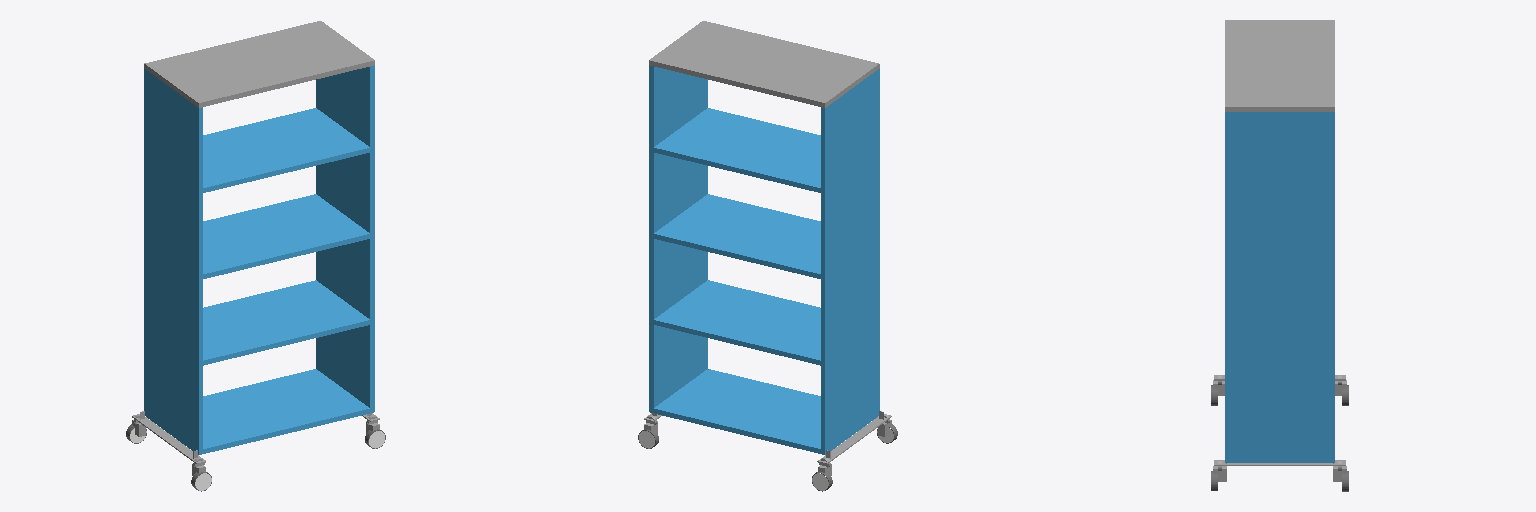
URDF robot description (bookcase):
<?xml version="1.0" ?>
<robot name="bookcase"  xmlns:xacro="http://www.ros.org/wiki/xacro">
    <link name="base_footprint">
      <inertial>
        <origin
            xyz="0 0 0"
            rpy="0 0 0" />
        <mass
            value="0.1" />
        <inertia
            ixx="1"
            ixy="0"
            ixz="0"
            iyy="1"
            iyz="0"
            izz="1" />            
      </inertial>
    </link>

    <link name="bookcase">
        <visual>
            <origin rpy="0 0 0" xyz="0.385 0.2 1.43"/>
            <geometry>
	 	        <box size="0.75 0.4 0.02"/>
            </geometry>
            <material name="grey">
                <color rgba="0.7 0.7 0.7 1"/>
            </material>
        </visual>

        <visual>
            <origin rpy="0 0 0" xyz="0.385 0.2 1.08"/>
            <geometry>
	 	        <box size="0.75 0.4 0.02"/>
            </geometry>
        </visual>

        <visual>
            <origin rpy="0 0 0" xyz="0.385 0.2 0.73"/>
            <geometry>
	 	        <box size="0.75 0.4 0.02"/>
            </geometry>
        </visual>

        <visual>
            <origin rpy="0 0 0" xyz="0.385 0.2 0.38"/>
            <geometry>
	 	        <box size="0.75 0.4 0.02"/>
            </geometry>
        </visual>

        <visual>
            <origin rpy="0 0 0" xyz="0.385 0.2 0.02"/>
            <geometry>
	 	        <box size="0.75 0.4 0.02"/>
            </geometry>
        </visual>

        <visual>
            <origin rpy="0 0 0" xyz="0.75 0.2 0.72"/>
            <geometry>
	 	        <box size="0.02 0.4 1.4"/>
            </geometry>
        </visual>
        
        <visual>
            <origin rpy="0 0 0" xyz="0.02 0.2 0.72"/>
            <geometry>
	 	        <box size="0.02 0.4 1.4"/>
            </geometry>
        </visual>


        <collision>
            <origin rpy="0 0 0" xyz="0.385 0.2 1.43"/>
            <geometry>
	 	        <box size="0.75 0.4 0.02"/>
            </geometry>
        </collision>

        <collision>
            <origin rpy="0 0 0" xyz="0.385 0.2 1.08"/>
            <geometry>
	 	        <box size="0.75 0.4 0.02"/>
            </geometry>
        </collision>

        <collision>
            <origin rpy="0 0 0" xyz="0.385 0.2 0.73"/>
            <geometry>
	 	        <box size="0.75 0.4 0.02"/>
            </geometry>
        </collision>

        <collision>
            <origin rpy="0 0 0" xyz="0.385 0.2 0.38"/>
            <geometry>
	 	        <box size="0.75 0.4 0.02"/>
            </geometry>
        </collision>

        <collision>
            <origin rpy="0 0 0" xyz="0.385 0.2 0.02"/>
            <geometry>
	 	        <box size="0.75 0.4 0.02"/>
            </geometry>
        </collision>

        <collision>
            <origin rpy="0 0 0" xyz="0.75 0.2 0.72"/>
            <geometry>
	 	        <box size="0.02 0.4 1.4"/>
            </geometry>
        </collision>
        
        <collision>
            <origin rpy="0 0 0" xyz="0.02 0.2 0.72"/>
            <geometry>
	 	        <box size="0.02 0.4 1.4"/>
            </geometry>
        </collision>



    </link>

    # Copied from wheels.urdf.
    <link name="r_wheel_link">
        <visual>
          <origin xyz="-0.0 -0.0025 0.0" />
          <material name="c">
            <color rgba="0.7 0.7 0.7 1.0" />
          </material>
          <geometry>
            <box size="0.04 0.005 0.48" />
          </geometry>
        </visual>
        <visual>
          <origin xyz="0.0 0.015 0.19625" />
          <material name="c">
            <color rgba="0.7 0.7 0.7 1.0" />
          </material>
          <geometry>
            <box size="0.02 0.03 0.0025" />
          </geometry>
        </visual>
        <visual>
          <origin xyz="0.0 0.015 -0.19625" />
          <material name="c">
            <color rgba="0.7 0.7 0.7 1.0" />
          </material>
          <geometry>
            <box size="0.02 0.03 0.0025" />
          </geometry>
        </visual>
        <visual>
          <origin xyz="0.0 -0.0125 0.22" />
          <material name="c">
            <color rgba="0.7 0.7 0.7 1.0" />
          </material>
          <geometry>
            <cylinder length="0.015" radius="0.02" />
          </geometry>
        </visual>
        <visual>
          <origin xyz="0.0 -0.0125 -0.22" />
          <material name="c">
            <color rgba="0.7 0.7 0.7 1.0" />
          </material>
          <geometry>
            <cylinder length="0.015" radius="0.02" />
          </geometry>
        </visual>
        <visual>
          <origin xyz="0.0 -0.075 -0.24" />
          <material name="c">
            <color rgba="1.0 1.0 1.0 1.0" />
          </material>
          <geometry>
            <cylinder length="0.026" radius="0.035" />
          </geometry>
        </visual>
        <visual>
          <origin xyz="0.0 -0.075 -0.24" />
          <material name="c">
            <color rgba="0.5 0.5 0.5 1.0" />
          </material>
          <geometry>
            <cylinder length="0.025" radius="0.0375" />
          </geometry>
        </visual>
        <visual>
          <origin xyz="0.0 -0.045 -0.22" />
          <material name="c">
            <color rgba="0.7 0.7 0.7 1.0" />
          </material>
          <geometry>
            <box size="0.03 0.05 0.05" />
          </geometry>
        </visual>
        <visual>
          <origin xyz="0.0 -0.075 0.24" />
          <material name="c">
            <color rgba="1.0 1.0 1.0 1.0" />
          </material>
          <geometry>
            <cylinder length="0.026" radius="0.035" />
          </geometry>
        </visual>
        <visual>
          <origin xyz="0.0 -0.075 0.24" />
          <material name="c">
            <color rgba="0.5 0.5 0.5 1.0" />
          </material>
          <geometry>
            <cylinder length="0.025" radius="0.0375" />
          </geometry>
        </visual>
        <visual>
          <origin xyz="0.0 -0.045 0.22" />
          <material name="c">
            <color rgba="0.7 0.7 0.7 1.0" />
          </material>
          <geometry>
            <box size="0.03 0.05 0.05" />
          </geometry>
        </visual>
    </link>

    # Copied from wheels.urdf.
    <link name="l_wheel_link">
        <visual>
          <origin xyz="-0.0 -0.0025 0.0" />
          <material name="c">
            <color rgba="0.7 0.7 0.7 1.0" />
          </material>
          <geometry>
            <box size="0.04 0.005 0.48" />
          </geometry>
        </visual>
        <visual>
          <origin xyz="0.0 0.015 0.19625" />
          <material name="c">
            <color rgba="0.7 0.7 0.7 1.0" />
          </material>
          <geometry>
            <box size="0.02 0.03 0.0025" />
          </geometry>
        </visual>
        <visual>
          <origin xyz="0.0 0.015 -0.19625" />
          <material name="c">
            <color rgba="0.7 0.7 0.7 1.0" />
          </material>
          <geometry>
            <box size="0.02 0.03 0.0025" />
          </geometry>
        </visual>
        <visual>
          <origin xyz="0.0 -0.0125 0.22" />
          <material name="c">
            <color rgba="0.7 0.7 0.7 1.0" />
          </material>
          <geometry>
            <cylinder length="0.015" radius="0.02" />
          </geometry>
        </visual>
        <visual>
          <origin xyz="0.0 -0.0125 -0.22" />
          <material name="c">
            <color rgba="0.7 0.7 0.7 1.0" />
          </material>
          <geometry>
            <cylinder length="0.015" radius="0.02" />
          </geometry>
        </visual>
        <visual>
          <origin xyz="0.0 -0.075 -0.24" />
          <material name="c">
            <color rgba="1.0 1.0 1.0 1.0" />
          </material>
          <geometry>
            <cylinder length="0.026" radius="0.035" />
          </geometry>
        </visual>
        <visual>
          <origin xyz="0.0 -0.075 -0.24" />
          <material name="c">
            <color rgba="0.5 0.5 0.5 1.0" />
          </material>
          <geometry>
            <cylinder length="0.025" radius="0.0375" />
          </geometry>
        </visual>
        <visual>
          <origin xyz="0.0 -0.045 -0.22" />
          <material name="c">
            <color rgba="0.7 0.7 0.7 1.0" />
          </material>
          <geometry>
            <box size="0.03 0.05 0.05" />
          </geometry>
        </visual>
        <visual>
          <origin xyz="0.0 -0.075 0.24" />
          <material name="c">
            <color rgba="1.0 1.0 1.0 1.0" />
          </material>
          <geometry>
            <cylinder length="0.026" radius="0.035" />
          </geometry>
        </visual>
        <visual>
          <origin xyz="0.0 -0.075 0.24" />
          <material name="c">
            <color rgba="0.5 0.5 0.5 1.0" />
          </material>
          <geometry>
            <cylinder length="0.025" radius="0.0375" />
          </geometry>
        </visual>
        <visual>
          <origin xyz="0.0 -0.045 0.22" />
          <material name="c">
            <color rgba="0.7 0.7 0.7 1.0" />
          </material>
          <geometry>
            <box size="0.03 0.05 0.05" />
          </geometry>
        </visual>
    </link>

    <joint
        name="base_to_l_wheel"
        type="fixed">
      <origin
          xyz="0.738 0.2 0.1125" 
          rpy="1.57 0 0"/>
      <parent
          link="base_footprint" />
      <child
          link="l_wheel_link" />
    </joint>

    <joint
        name="base_to_bookcase"
        type="fixed">
      <origin
          xyz="0.0 0.0 0.1125" />
      <parent
          link="base_footprint" />
      <child
          link="bookcase" />
    </joint>

    <joint
        name="base_to_r_wheel"
        type="fixed">
      <origin
          xyz="0 0.2 0.1125"
          rpy="1.57 0 0" />
      <parent
          link="base_footprint" />
      <child
          link="r_wheel_link" />
    </joint>

</robot>

--- Facts derived from the render (not from the file) ---
Views: 3 orthographic renders of the robot side by side, from view 1: azimuth 30°, elevation 25°; view 2: azimuth 150°, elevation 25°; view 3: azimuth 270°, elevation 25°.
Robot: bookcase — 4 links, 3 joints (3 fixed); root link base_footprint; default pose: all joints at 0.
Visible links, largest first — view 1: bookcase, r_wheel_link, l_wheel_link; view 2: bookcase, r_wheel_link, l_wheel_link; view 3: bookcase, l_wheel_link, r_wheel_link.
Link boxes in pixels (x1,y1,x2,y2): bookcase: (144, 21, 374, 454); r_wheel_link: (126, 411, 211, 491); l_wheel_link: (362, 408, 385, 448); bookcase: (649, 21, 879, 454); r_wheel_link: (812, 411, 897, 491); l_wheel_link: (638, 369, 709, 448); bookcase: (1225, 20, 1334, 462); l_wheel_link: (1211, 460, 1348, 491); r_wheel_link: (1211, 375, 1348, 405).
Size in the robot's own frame: 0.813 by 0.5061 by 1.55 metres.
Geometry: primitives only (box / cylinder / sphere), no mesh files.